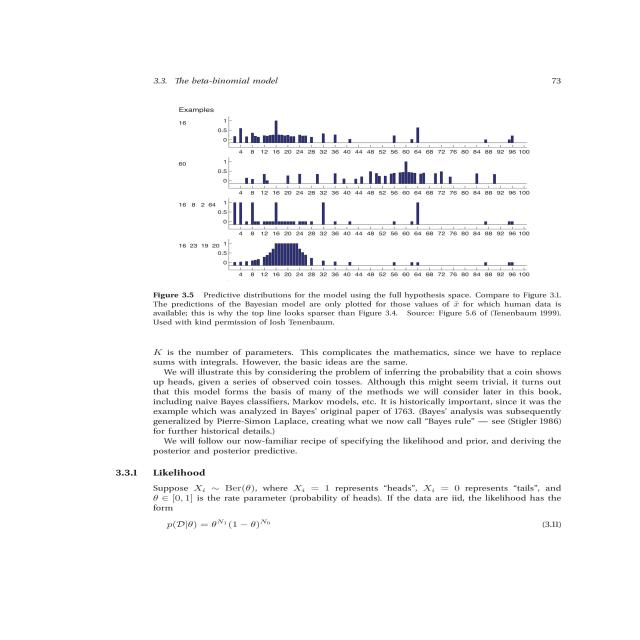diagram: (53, 91, 606, 325)
